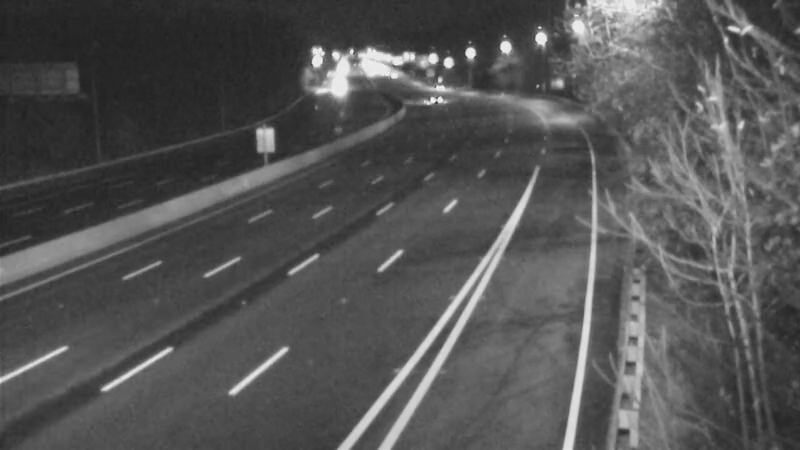vehicle: (410, 75, 460, 125)
